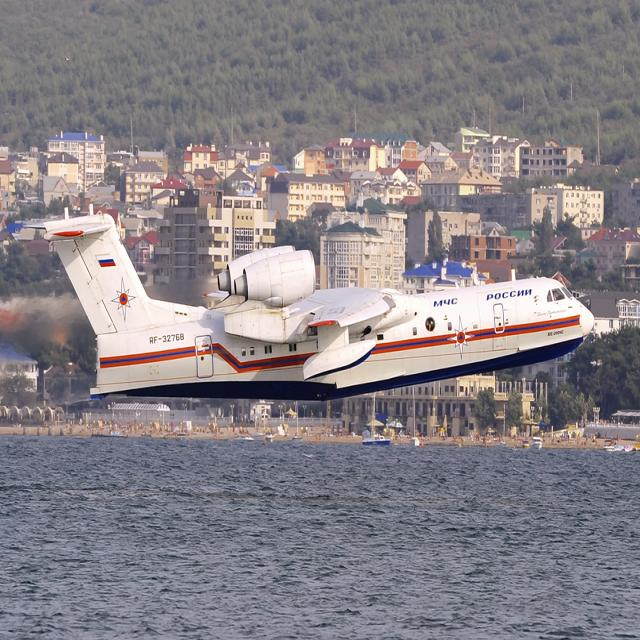MIL_Plane: (20, 203, 595, 401)
